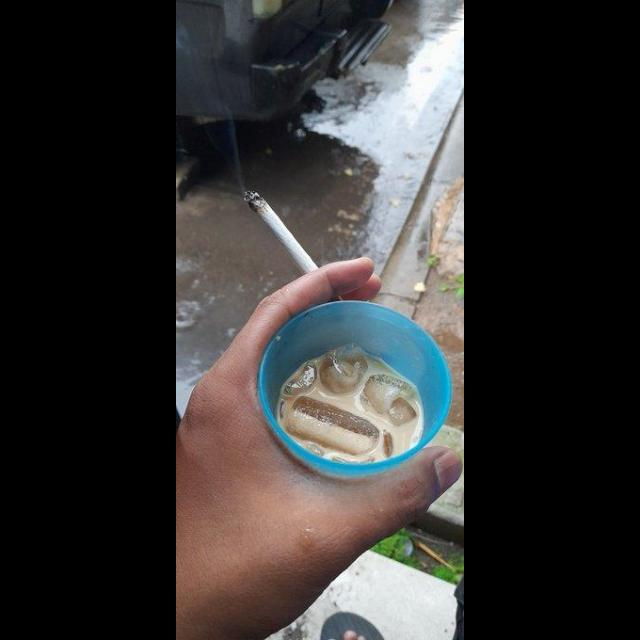rokok: (240, 186, 322, 276)
